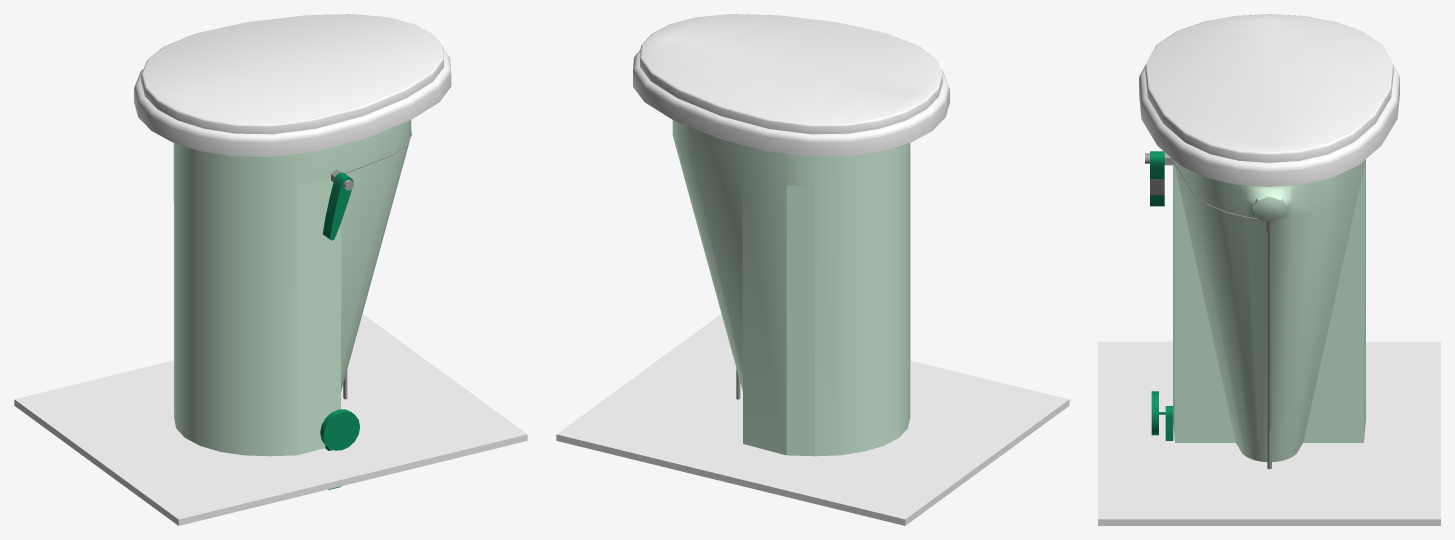
Rendered from Toilet_Visible.glb.
The picture shows the model from 3 angles, left to right: view 1: azimuth 30°, elevation 25°; view 2: azimuth 150°, elevation 25°; view 3: azimuth 270°, elevation 25°; orthographic projection. The views are drawn at different scales.
Parts seen in each view (by area): view 1: Toilet_Visible; view 2: Toilet_Visible; view 3: Toilet_Visible.
Part boxes in pixels (box(x1,y1,x2,y2)): Toilet_Visible: box(14, 14, 527, 525); Toilet_Visible: box(556, 14, 1069, 525); Toilet_Visible: box(1098, 14, 1440, 525).
Size of the model in its own units: 0.5657 by 0.5937 by 0.4613.
